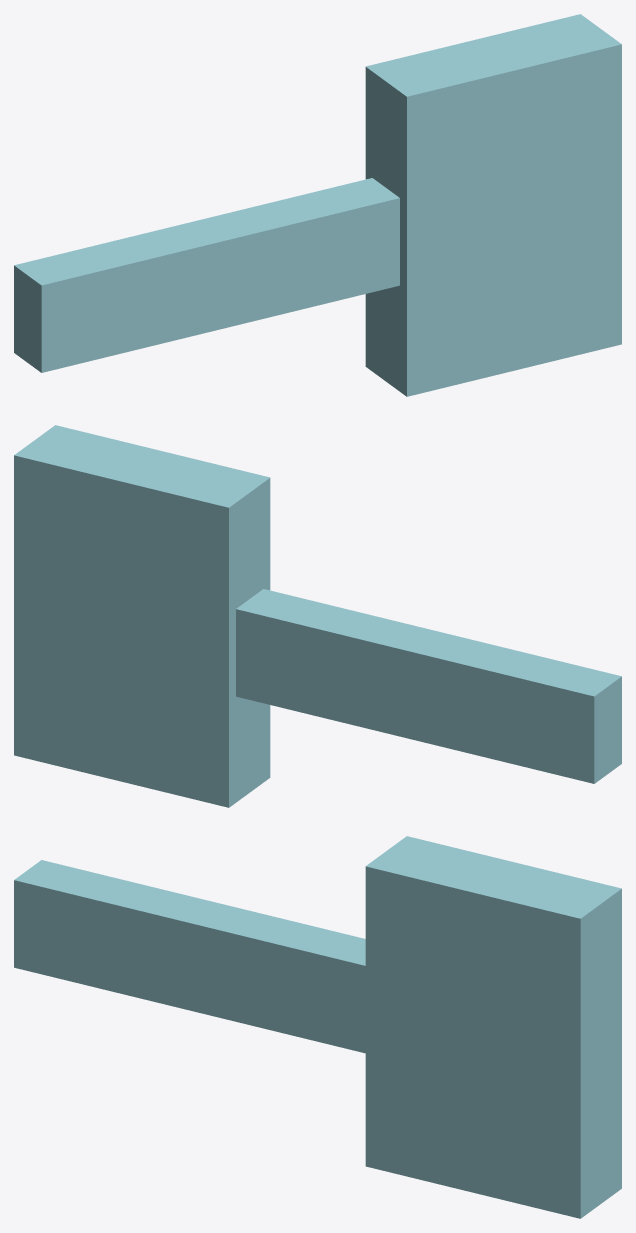
The model's file is primitive_frontal_brush.obj.
The picture shows the model from 3 angles, top to bottom: view 1: azimuth 30°, elevation 25°; view 2: azimuth 150°, elevation 25°; view 3: azimuth 330°, elevation 25°; orthographic projection.
Bounding box in the file's own units: 0.24 × 0.12 × 0.03.
1 material, 1 textured.
